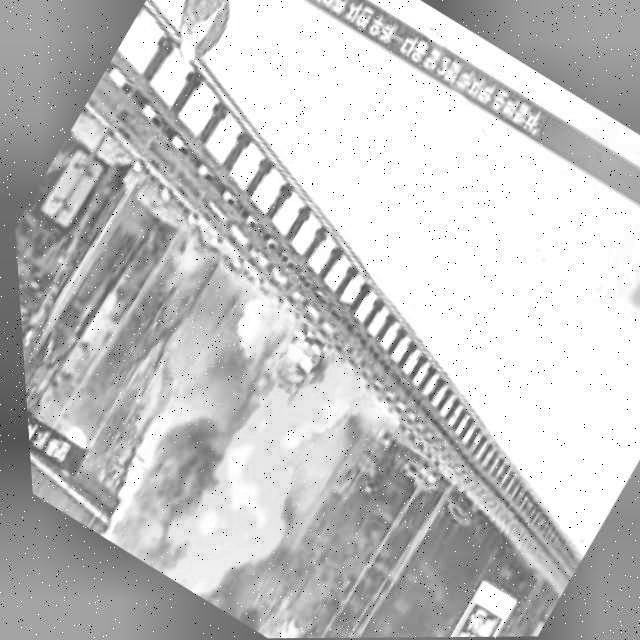Fire: (95, 416, 309, 621), (205, 295, 372, 439), (210, 387, 309, 478)
